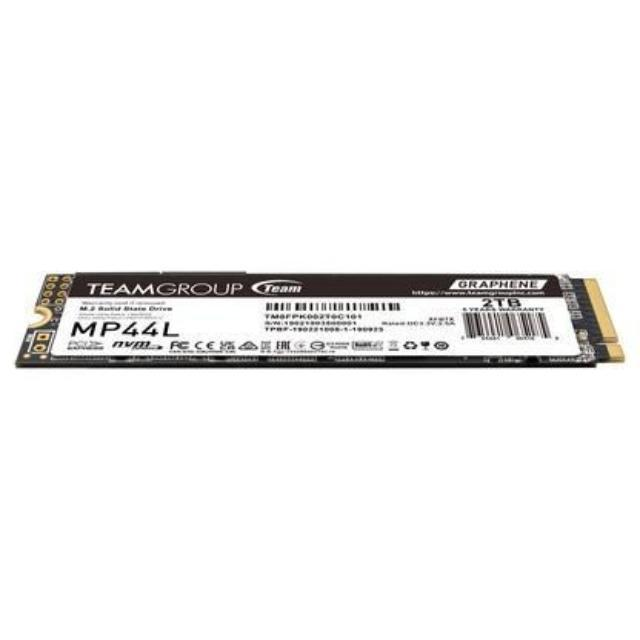CPU_Fan: (12, 264, 630, 372)
